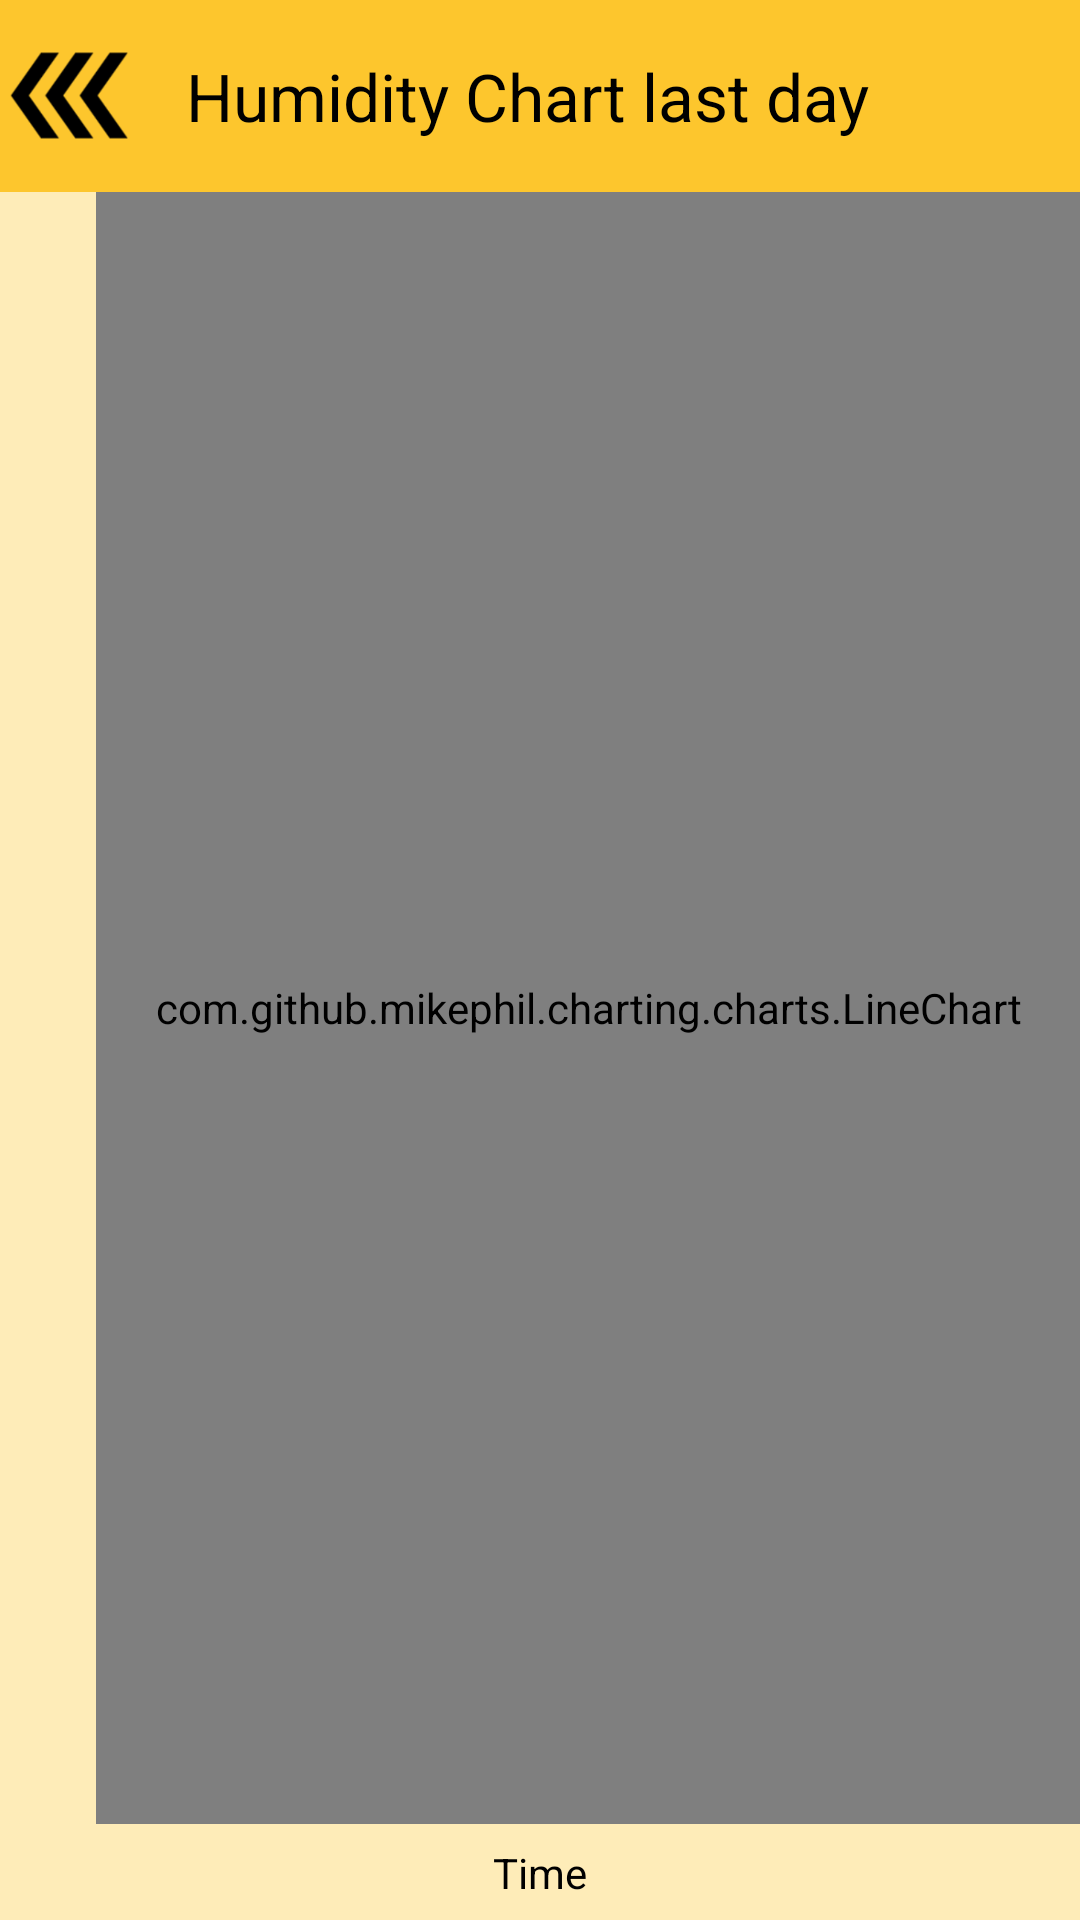

Named icons in this screenshot (1080 × 1920) and their bounding boxes, BBox(x1, y1, x2, y2):
back: BBox(10, 52, 128, 139)
